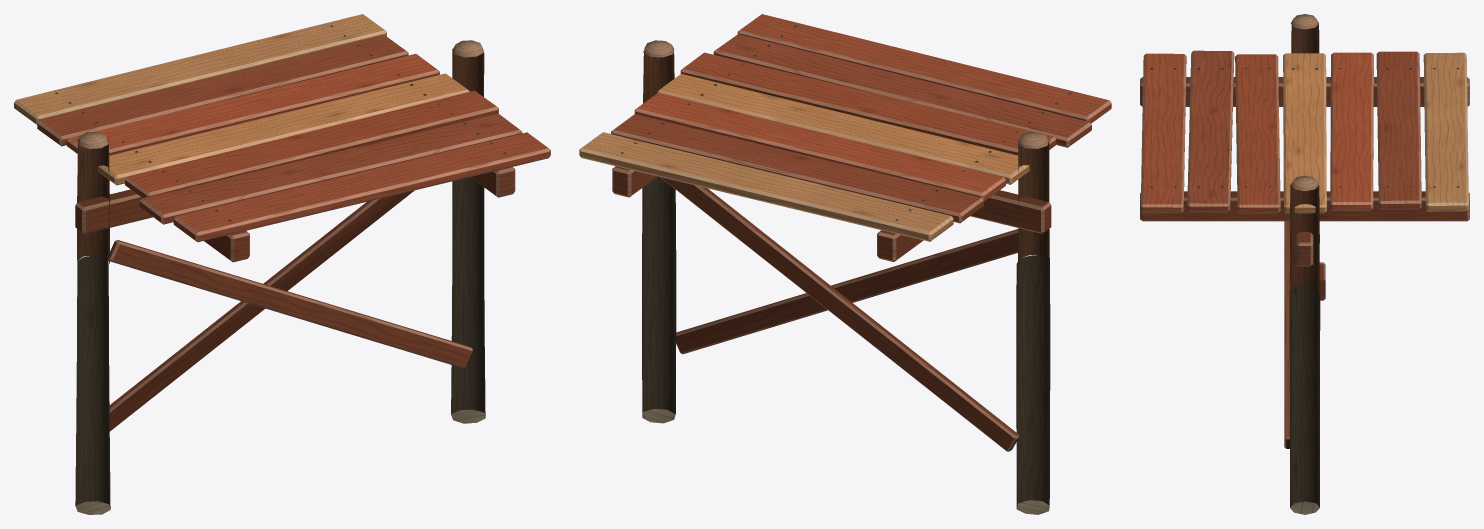
File: jetty_plank_segment.glb
The picture shows the model from 3 angles, left to right: view 1: azimuth 30°, elevation 25°; view 2: azimuth 150°, elevation 25°; view 3: azimuth 270°, elevation 25°; orthographic projection. The views are drawn at different scales.
Visible parts, largest first — view 1: jetty; view 2: jetty; view 3: jetty.
Part boxes in pixels (bbox=[...]): jetty: bbox=[14, 14, 550, 514]; jetty: bbox=[579, 14, 1111, 514]; jetty: bbox=[1140, 14, 1469, 514].
Bounding box in the file's own units: 2.52 × 2.2 × 2.
Materials: 1 (1 with a texture image).
